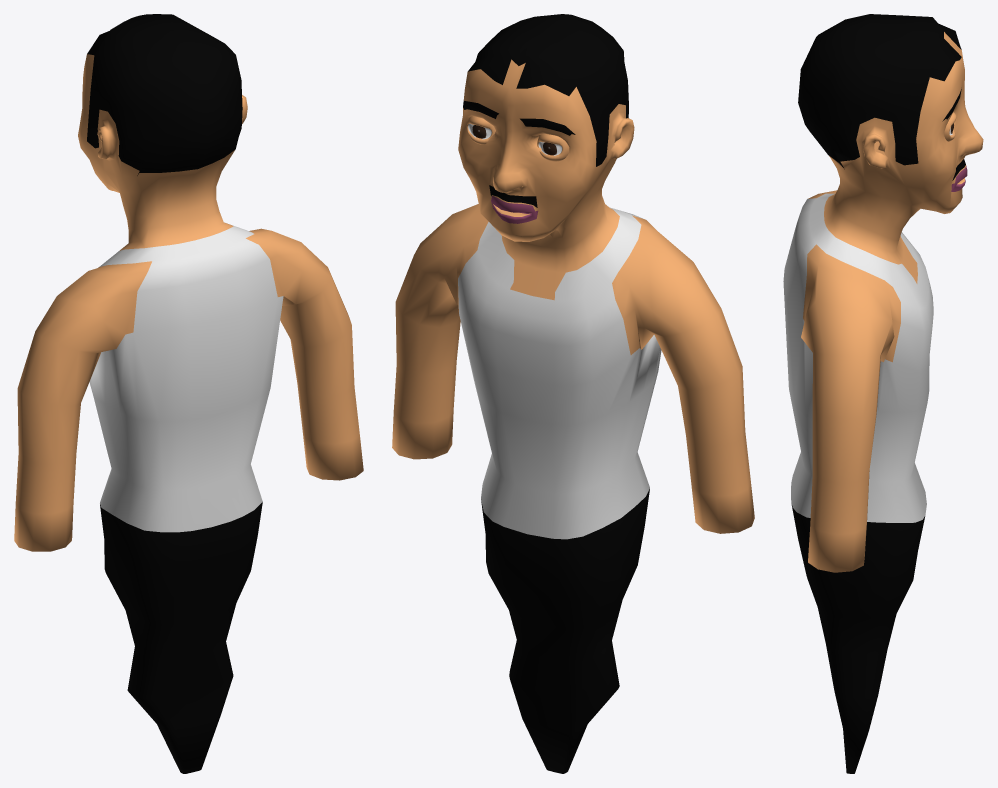
File: freddie Mercury2.fbx
3 renders of one model, left to right at view 1: azimuth 30°, elevation 25°; view 2: azimuth 150°, elevation 25°; view 3: azimuth 270°, elevation 25°, orthographic. The views are drawn at different scales.
Visible parts, largest first — view 1: Cubo; view 2: Cubo, Cubo.001; view 3: Cubo.
Part boxes in pixels (x1,y1,x2,y2): Cubo: (14, 14, 363, 773); Cubo: (392, 14, 754, 773); Cubo.001: (537, 134, 569, 161); Cubo: (783, 14, 983, 773).
Size of the model in its own units: 230 by 471 by 115.
